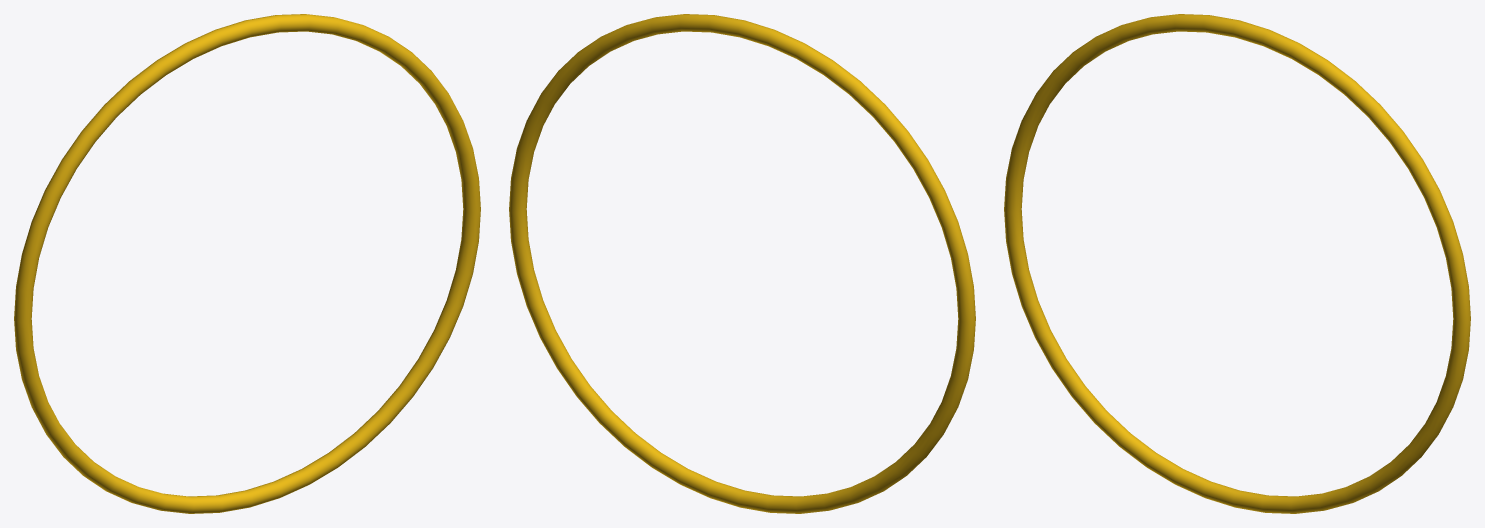
File: ring.glb
3 views of the same model, side by side, from view 1: azimuth 30°, elevation 25°; view 2: azimuth 150°, elevation 25°; view 3: azimuth 330°, elevation 25° (orthographic).
Visible parts, largest first — view 1: Torus.001; view 2: Torus.001; view 3: Torus.001.
Boxes of the visible parts, left/top/right/bottom form: Torus.001: left=14, top=14, right=480, bottom=513; Torus.001: left=509, top=14, right=975, bottom=513; Torus.001: left=1004, top=14, right=1470, bottom=513.
Bounding box in the file's own units: 8.43 × 8.43 × 0.2788.
